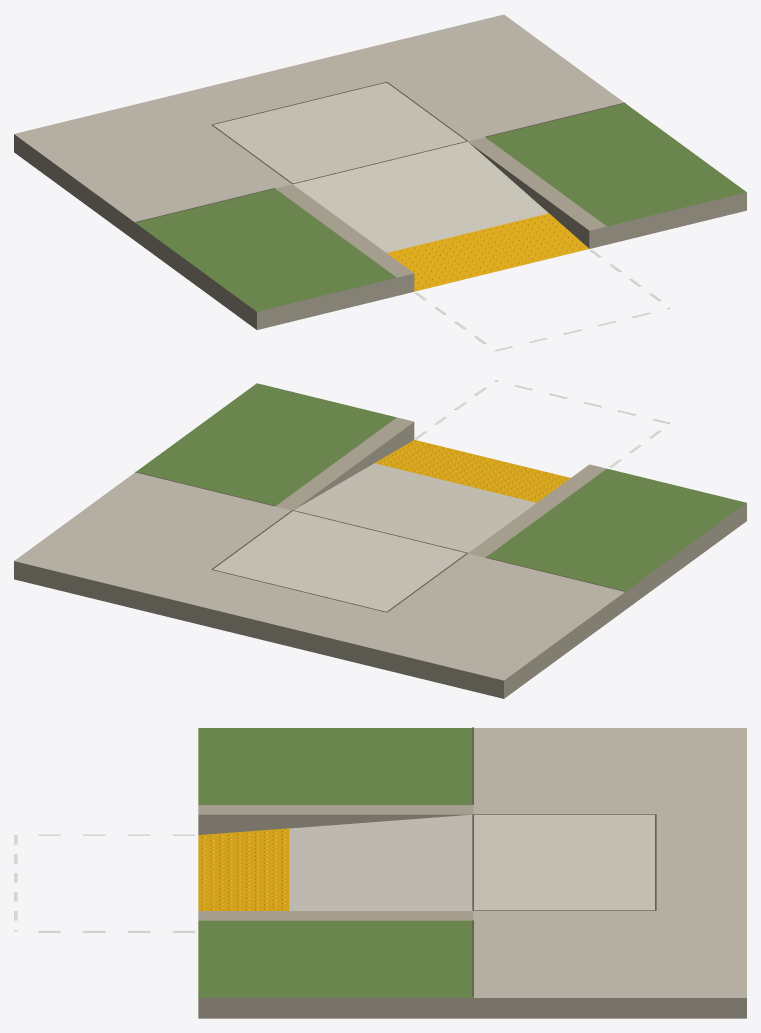
File: ramp-422a-side-curbs.glb
3 renders of one model, top to bottom at view 1: azimuth 30°, elevation 25°; view 2: azimuth 150°, elevation 25°; view 3: azimuth 270°, elevation 25°, orthographic. The views are drawn at different scales.
Visible parts, largest first — view 1: Seattle Type 422A curb ramp (side curbs); view 2: Seattle Type 422A curb ramp (side curbs); view 3: Seattle Type 422A curb ramp (side curbs).
Part boxes in pixels (bbox=[...]): Seattle Type 422A curb ramp (side curbs): bbox=[14, 14, 746, 351]; Seattle Type 422A curb ramp (side curbs): bbox=[14, 380, 746, 698]; Seattle Type 422A curb ramp (side curbs): bbox=[14, 727, 746, 1018].
Bounding box in the file's own units: 4.27 × 0.1554 × 4.9.
